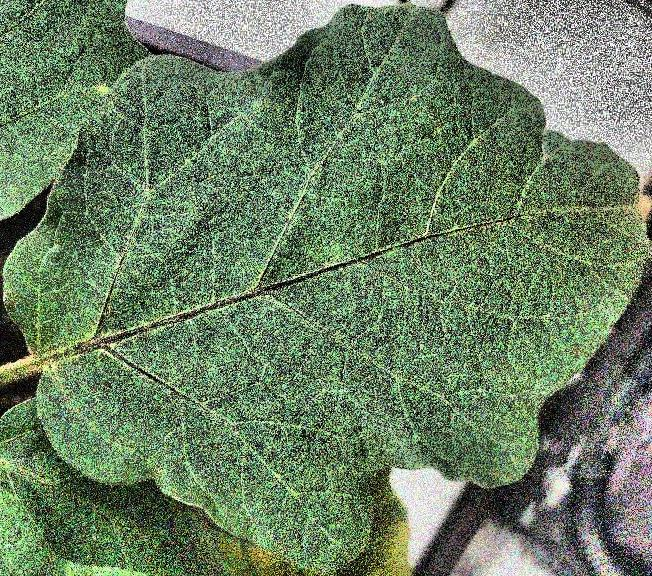HEALTHY: (0, 1, 652, 576)
